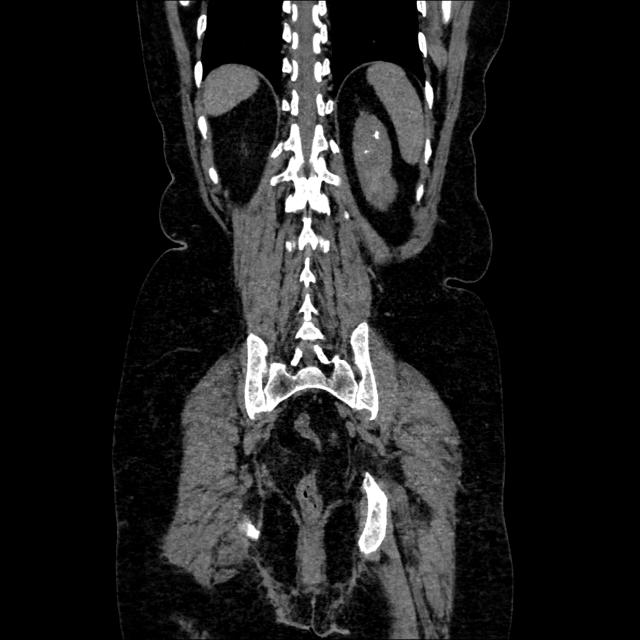kidney: (352, 102, 402, 213)
stone: (373, 129, 381, 142), (363, 147, 370, 155)
